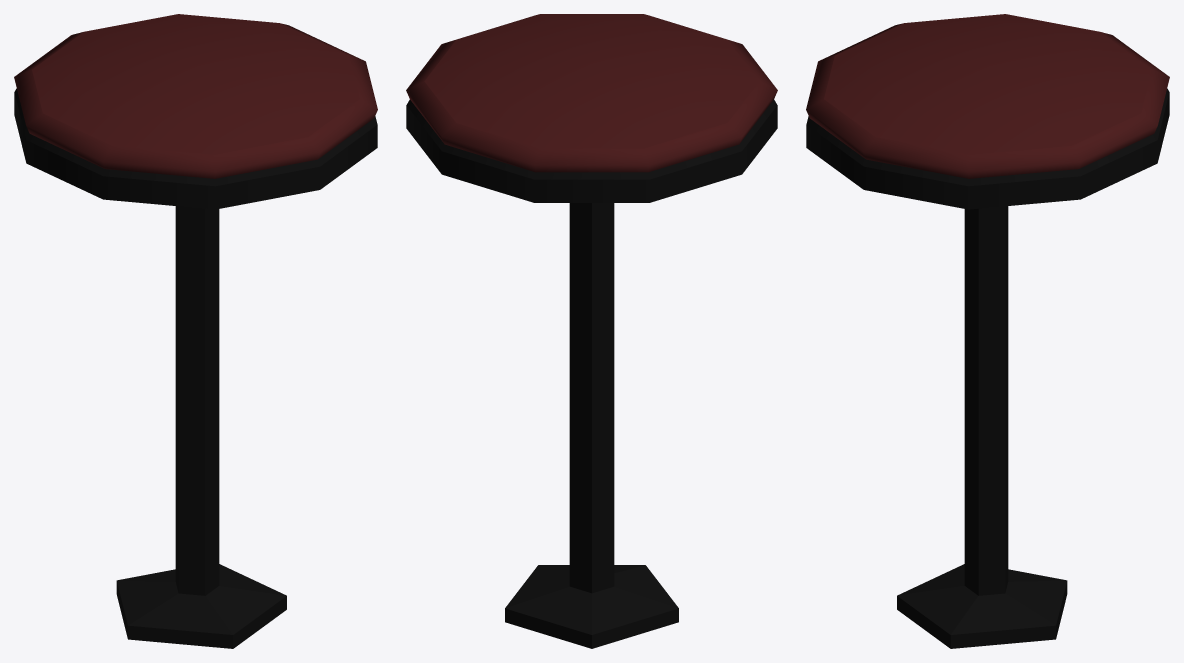
File: PianoStool.FBX
3 views of the same model, side by side, from view 1: azimuth 30°, elevation 25°; view 2: azimuth 150°, elevation 25°; view 3: azimuth 270°, elevation 25° (orthographic).
Visible parts, largest first — view 1: Cylinder159; view 2: Cylinder159; view 3: Cylinder159.
Boxes of the visible parts, x1,y1,x2,y2 form: Cylinder159: [14, 14, 377, 648]; Cylinder159: [406, 14, 777, 648]; Cylinder159: [806, 14, 1169, 648].
Bounding box in the file's own units: 7.88 × 12.88 × 7.75.
Materials: 1 (1 with a texture image).
